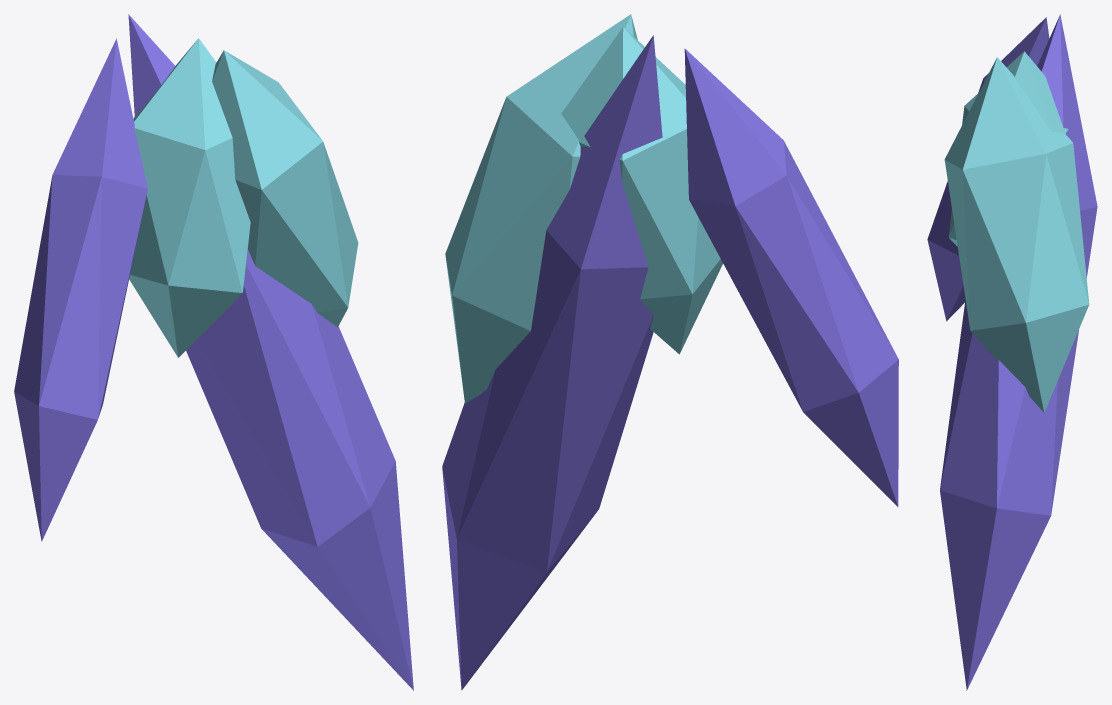
The model's file is crystal_hang.glb.
3 views of the same model, side by side, from view 1: azimuth 30°, elevation 25°; view 2: azimuth 150°, elevation 25°; view 3: azimuth 270°, elevation 25° (orthographic). The views are drawn at different scales.
Visible parts, largest first — view 1: crystal_hang; view 2: crystal_hang; view 3: crystal_hang.
Part boxes in pixels (bbox=[...]): crystal_hang: bbox=[14, 14, 413, 690]; crystal_hang: bbox=[442, 14, 898, 690]; crystal_hang: bbox=[927, 14, 1097, 690].
Bounding box in the file's own units: 1.3 × 2.22 × 0.5881.
